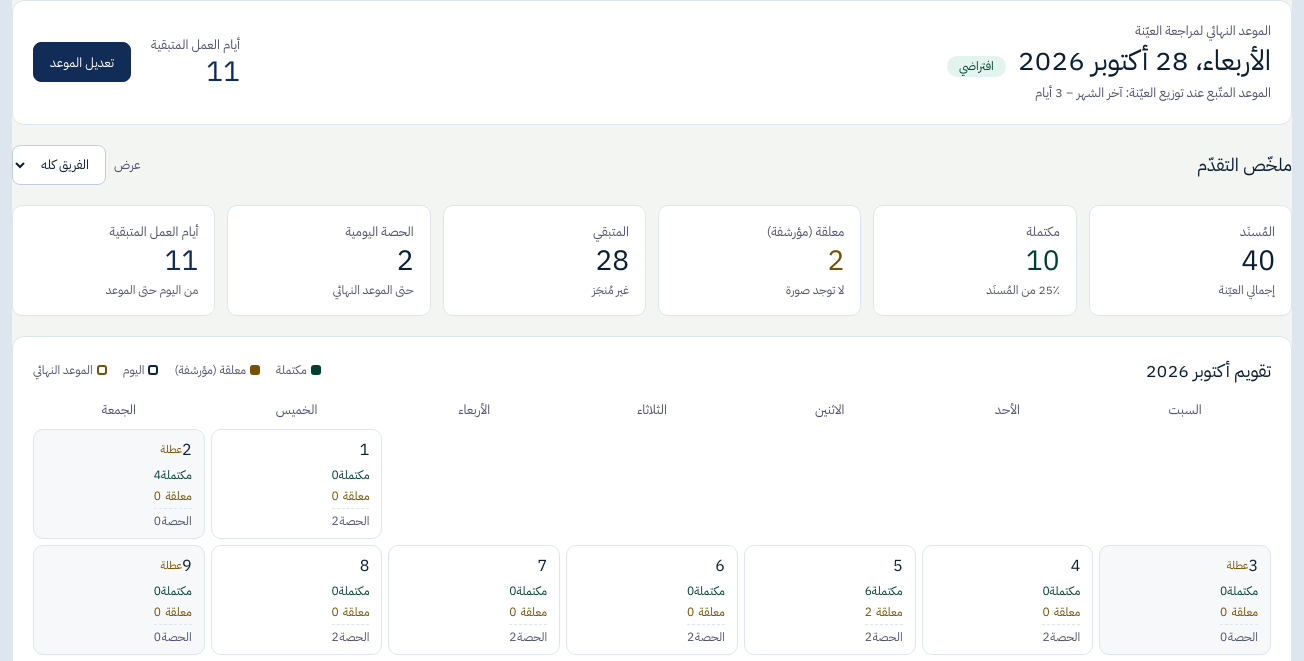
it: ResultsTracking › Friday and Saturday stay greyed but are clickable and show the numbers worked on them
Click the 1st button with class "trk-cell" at (119, 484), box [33, 429, 205, 539]
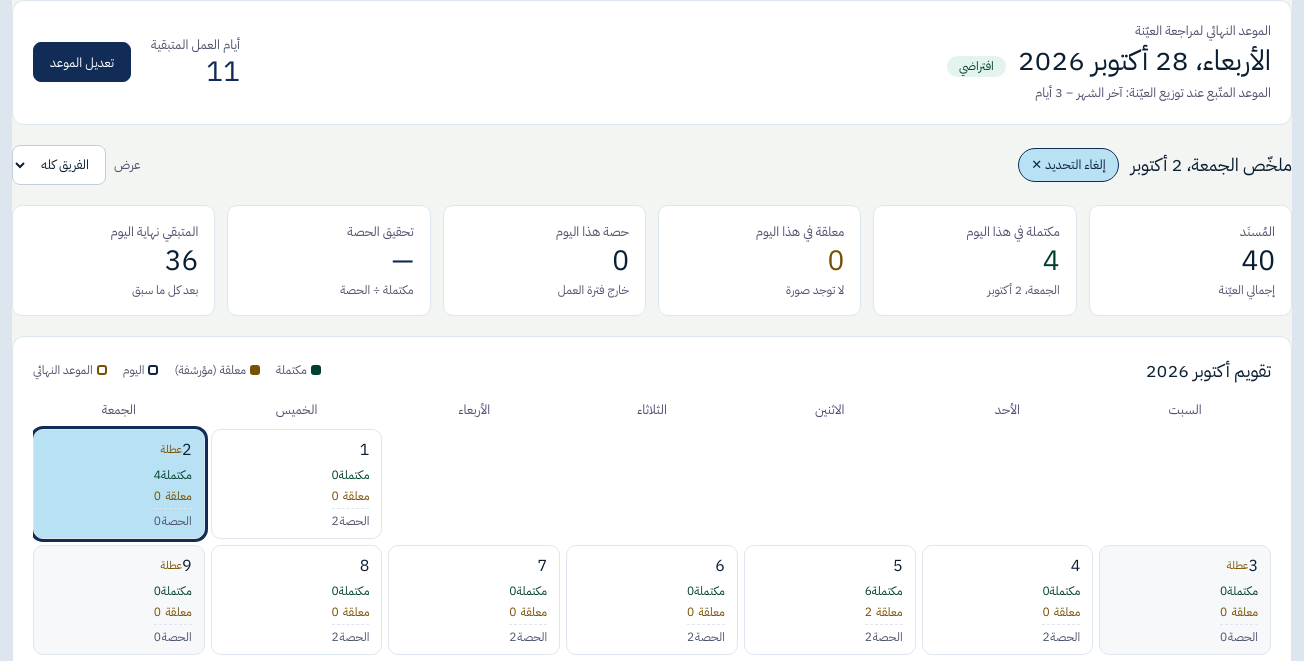
Now the text "مكتملة في هذا اليوم" is shown, box [966, 222, 1060, 241]
